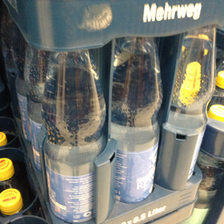water: (43, 52, 106, 222), (161, 27, 217, 187), (111, 37, 164, 204)
